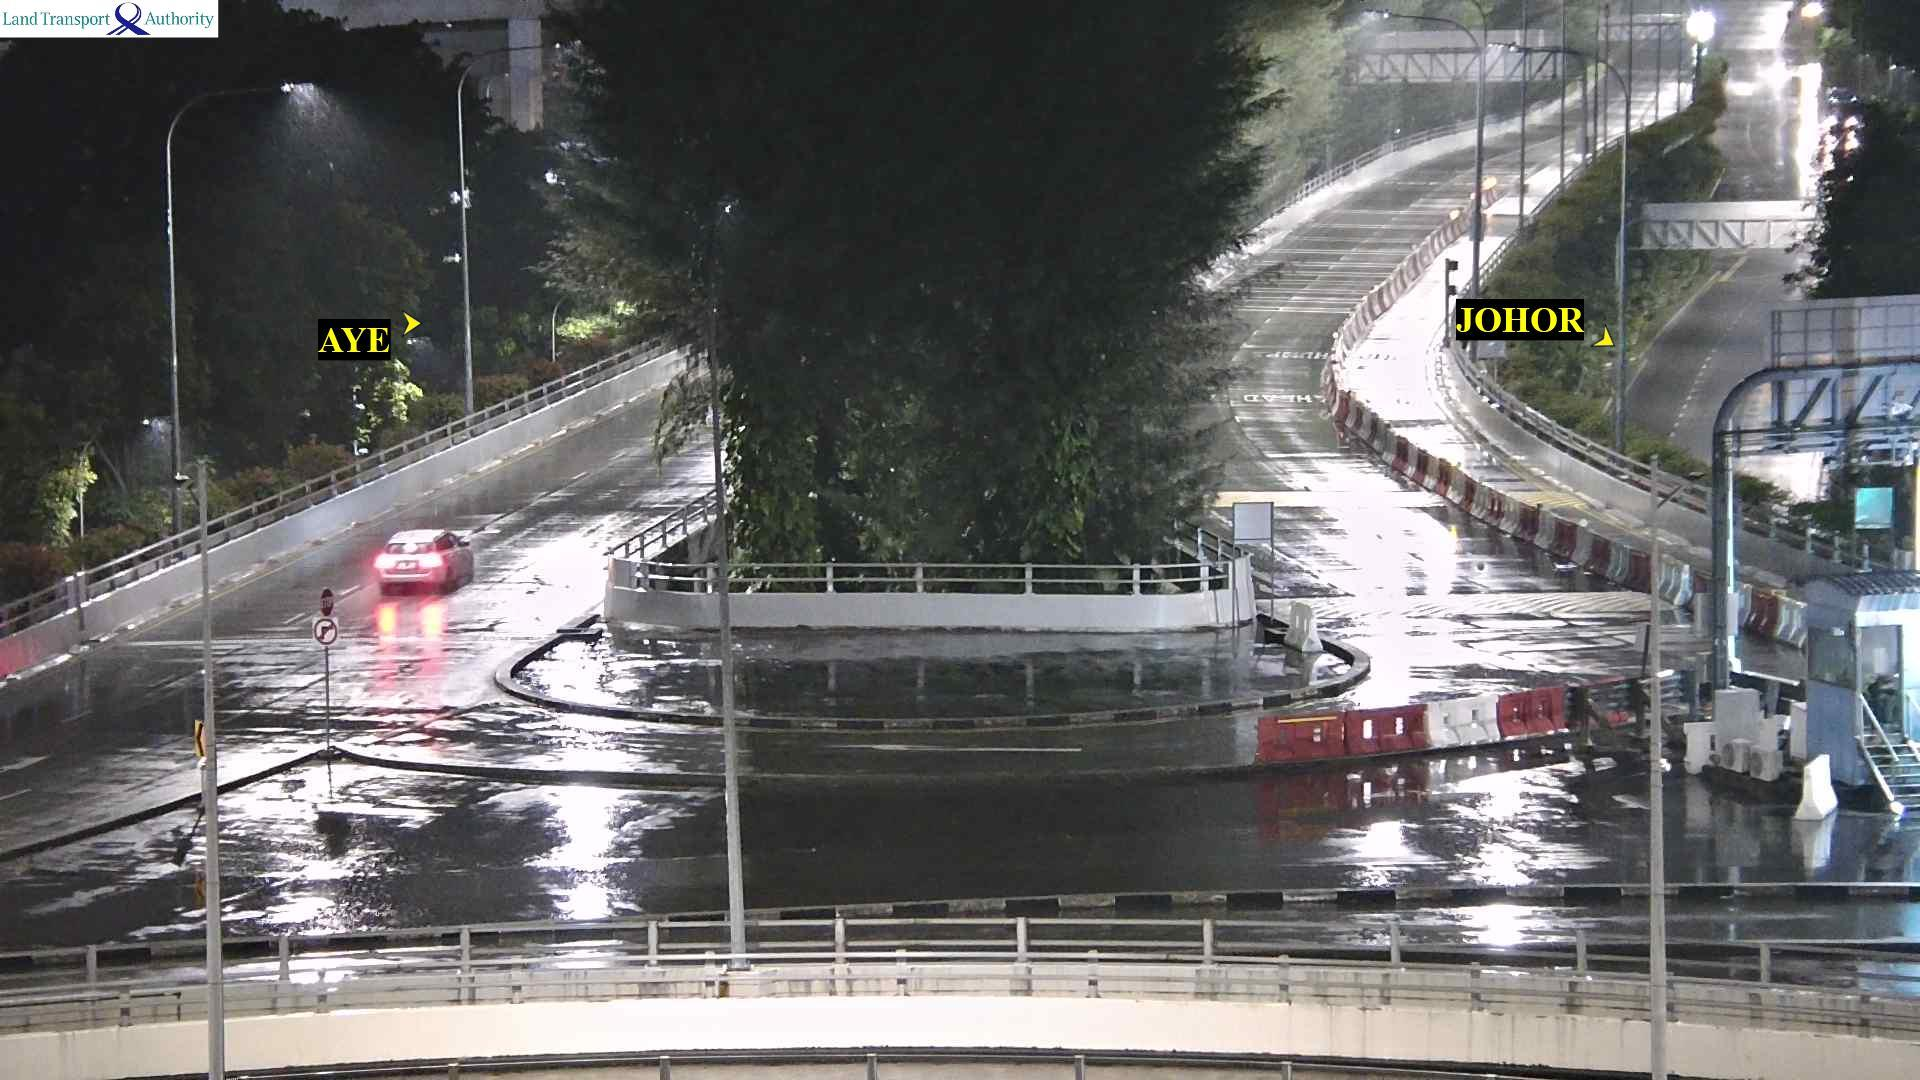vehicle-secondlink-singapore: (377, 529, 473, 595)
